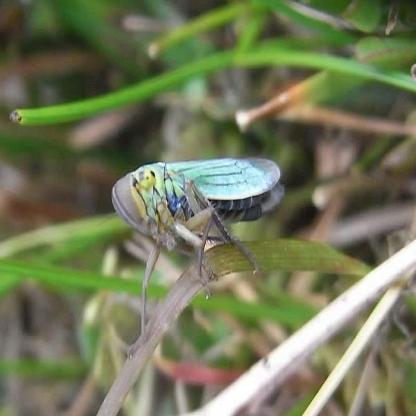Green-Leafhopper: (112, 156, 286, 352)
